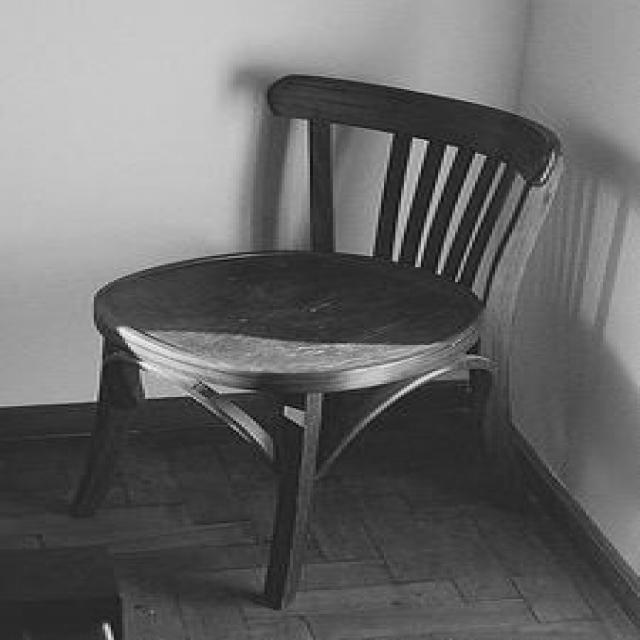chair: (62, 72, 570, 606)
